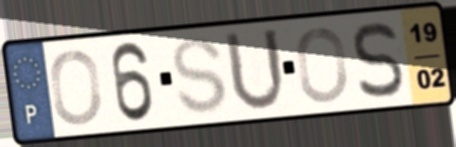6: (108, 39, 156, 125)
O: (294, 24, 351, 105), (48, 47, 105, 128)
S: (169, 35, 231, 118), (350, 19, 407, 102)
U: (221, 26, 289, 115)
